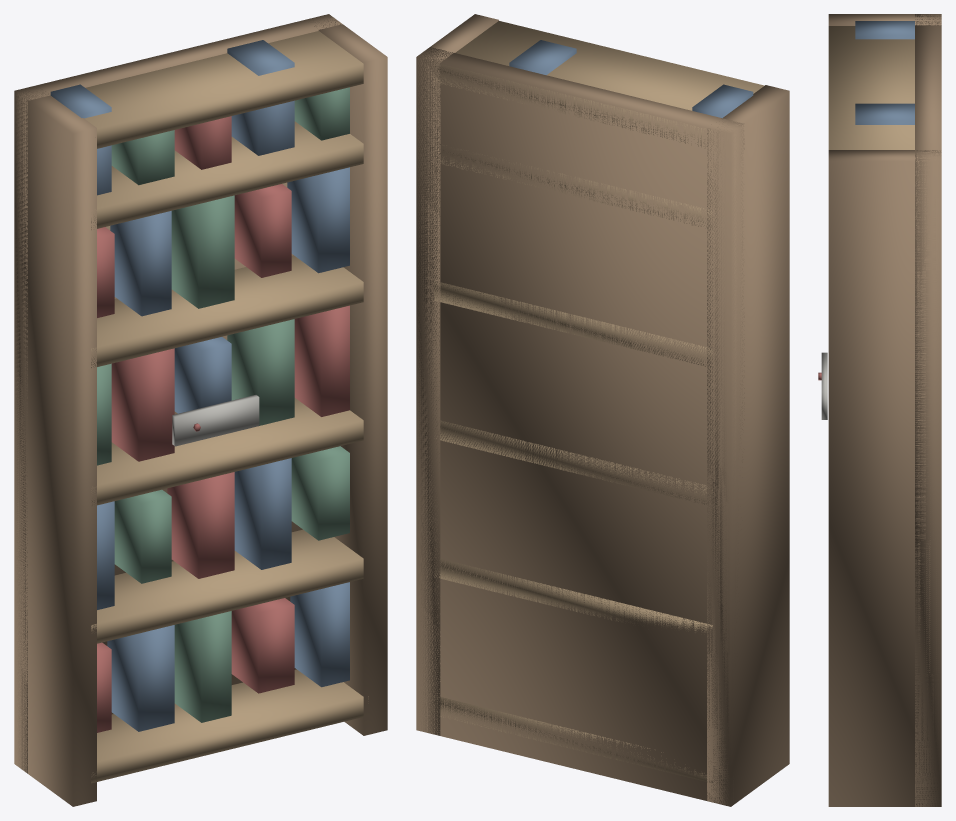
Rendered from bookcase_bay__tall.glb.
The picture shows the model from 3 angles, left to right: view 1: azimuth 30°, elevation 25°; view 2: azimuth 150°, elevation 25°; view 3: azimuth 270°, elevation 25°; orthographic projection. The views are drawn at different scales.
Parts seen in each view (by area): view 1: world; view 2: world; view 3: world.
Boxes of the visible parts, x1,y1,x2,y2 form: world: [14, 14, 387, 806]; world: [416, 14, 789, 806]; world: [818, 14, 941, 806].
Bounding box in the file's own units: 1.05 × 2.16 × 0.371.
